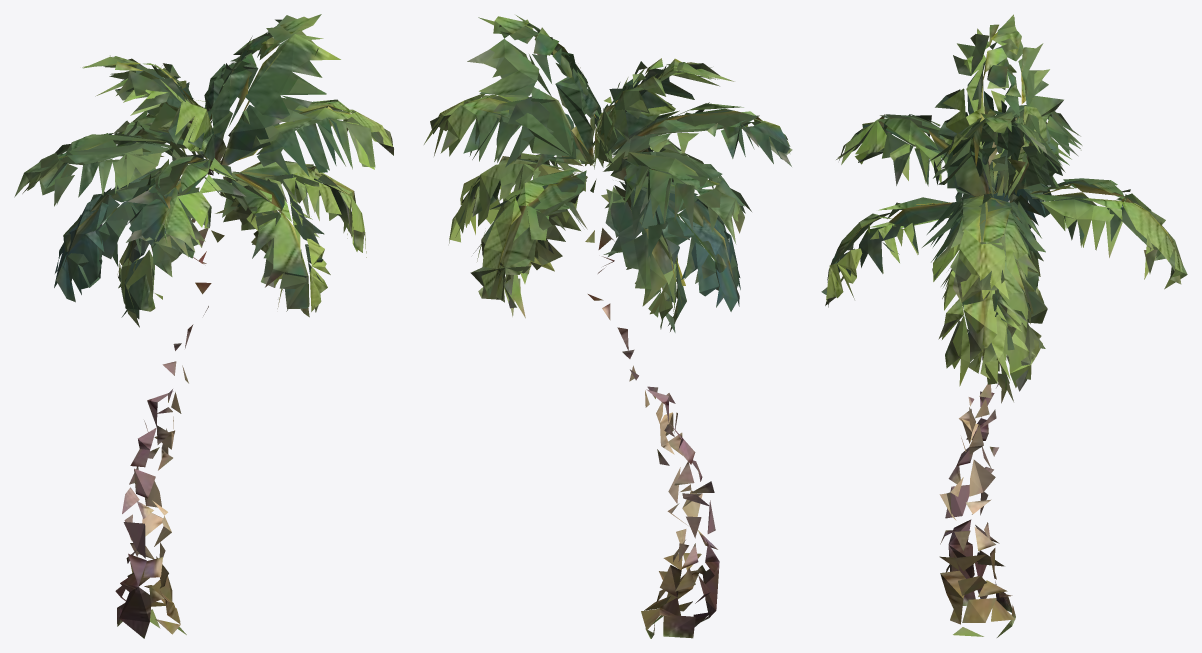
Rendered from palm.glb.
3 views of the same model, side by side, from view 1: azimuth 30°, elevation 25°; view 2: azimuth 150°, elevation 25°; view 3: azimuth 270°, elevation 25° (orthographic). The views are drawn at different scales.
Visible parts, largest first — view 1: geometry_0; view 2: geometry_0; view 3: geometry_0.
Boxes of the visible parts, <box> form: geometry_0: <box>14,14,394,638</box>; geometry_0: <box>424,15,792,638</box>; geometry_0: <box>821,14,1187,637</box>.
Size of the model in its own units: 1.24 by 2.02 by 1.13.
Materials: 1 (1 with a texture image).
